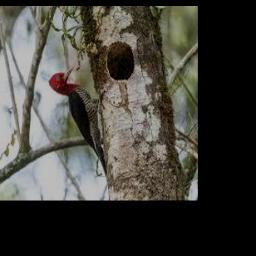Woodpecker: (49, 64, 107, 176)
